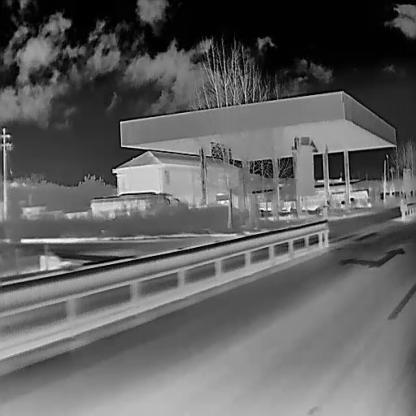car: (89, 190, 179, 218), (330, 188, 372, 209)
